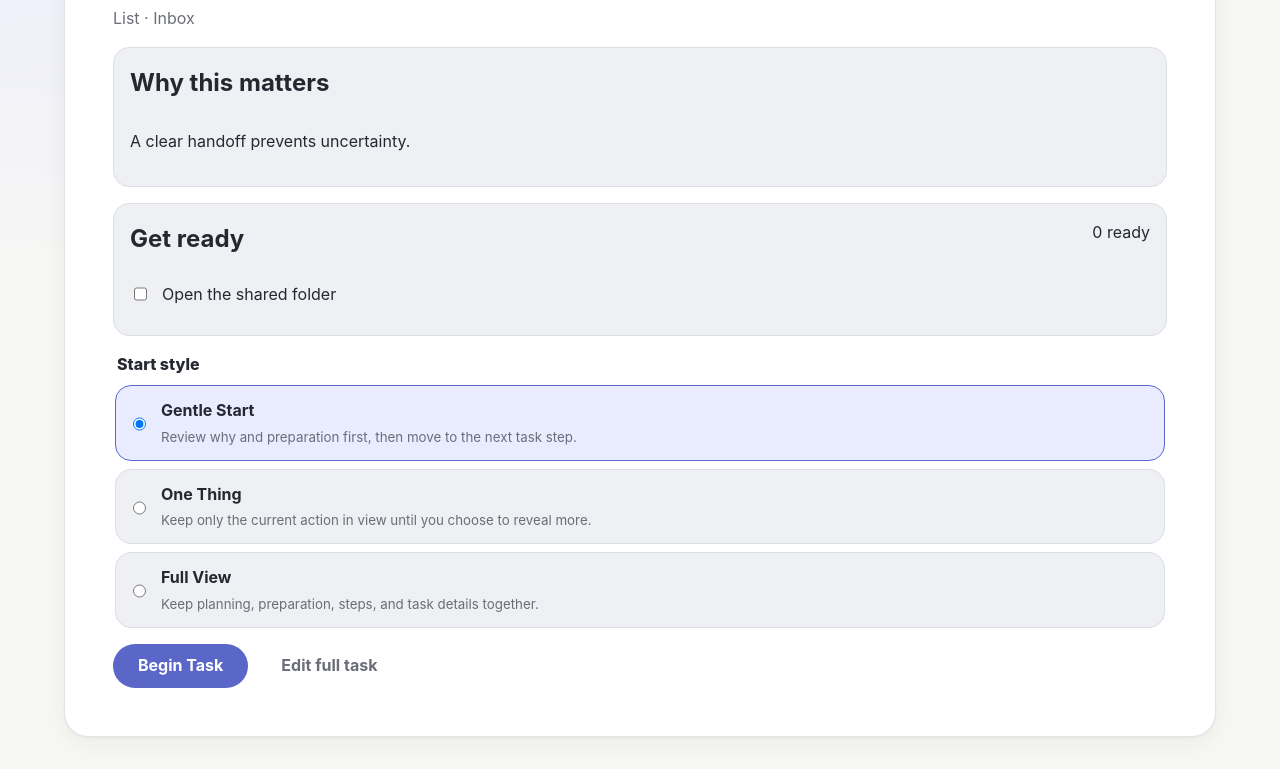
Phase 4B focused start › uses Gentle Start to show why and prep before revealing the current task step
(page scrolled)
Check: the text "A clear handoff prevents uncertainty." is shown, box [130, 131, 410, 151]
Check: the text "Open the shared folder" is shown, box [162, 282, 336, 307]
Click the button "Begin Task".
click(181, 666)  # box [113, 644, 248, 688]
(page scrolled)
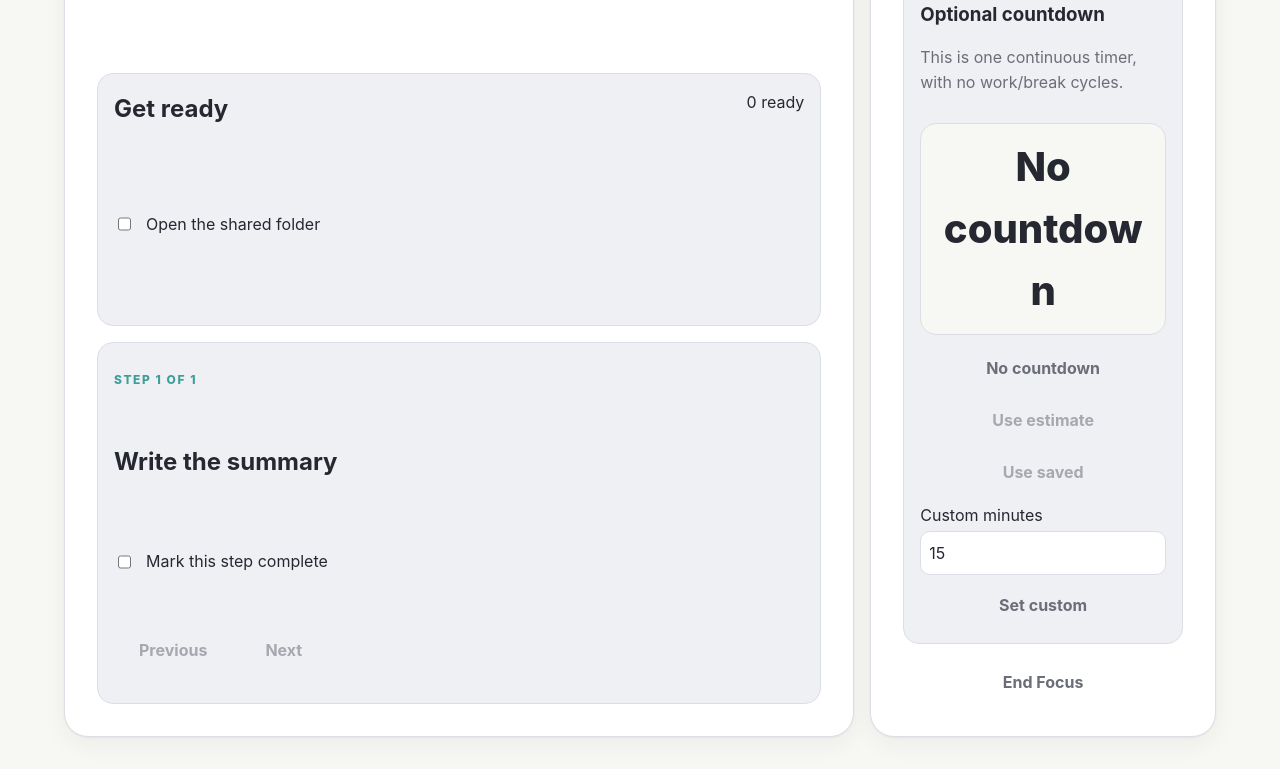
Check: the heading "Write the summary" is shown, box [114, 447, 338, 476]
Click the checkbox labelled "Mark this step complete".
click(124, 562)  # box [118, 540, 131, 584]
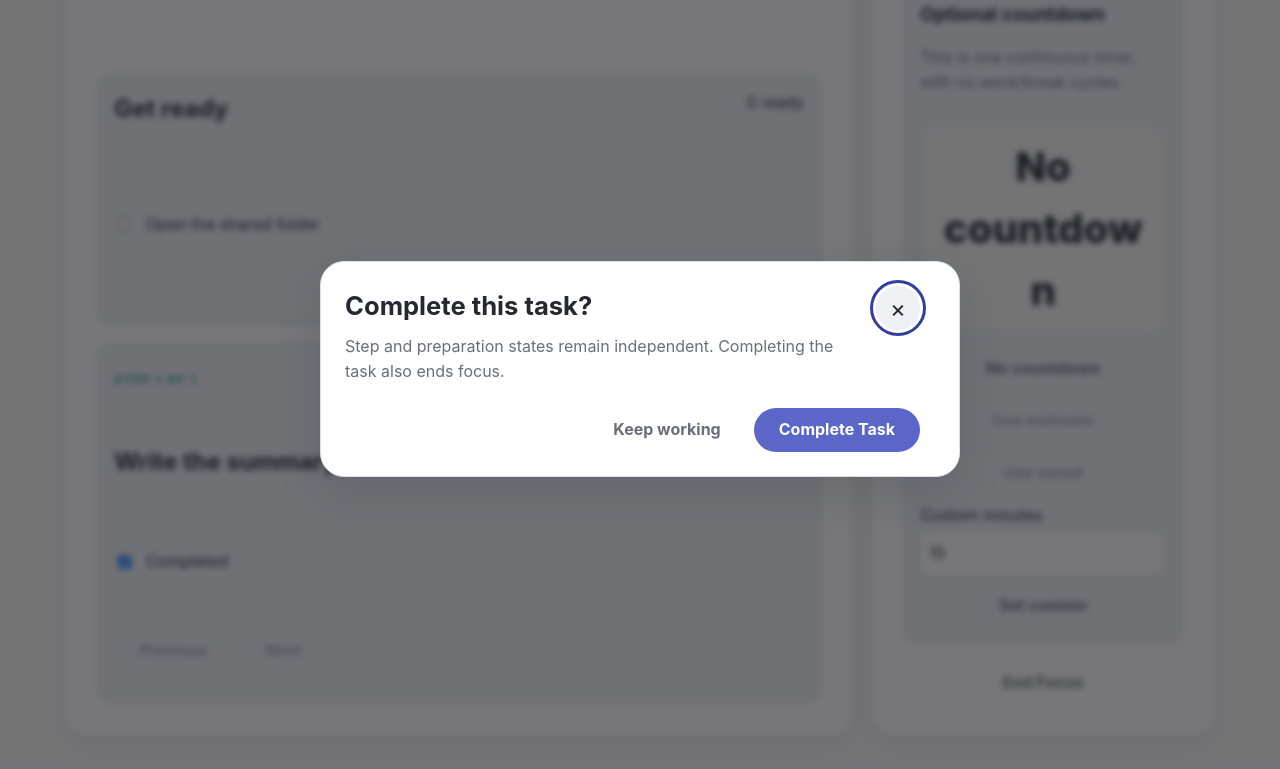
Check: the dialog "Complete this task?" is shown, box [320, 261, 960, 477]
